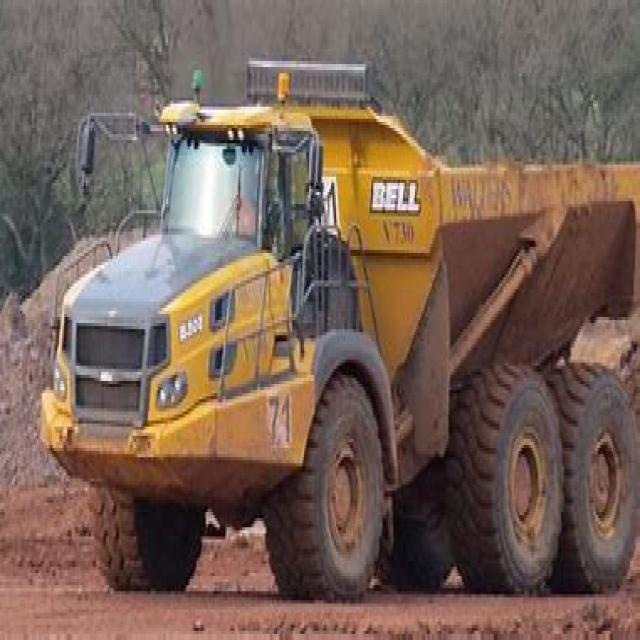dump_truck: (44, 52, 638, 588)
